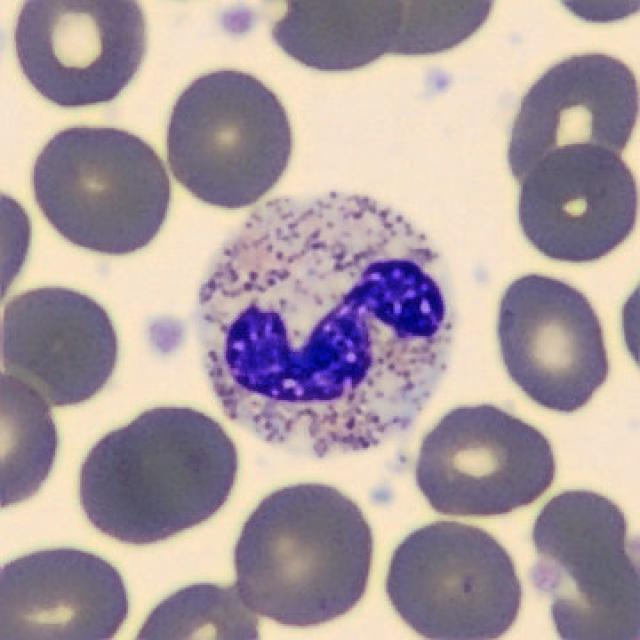Neutrofilo segmentado: (197, 192, 455, 457)
